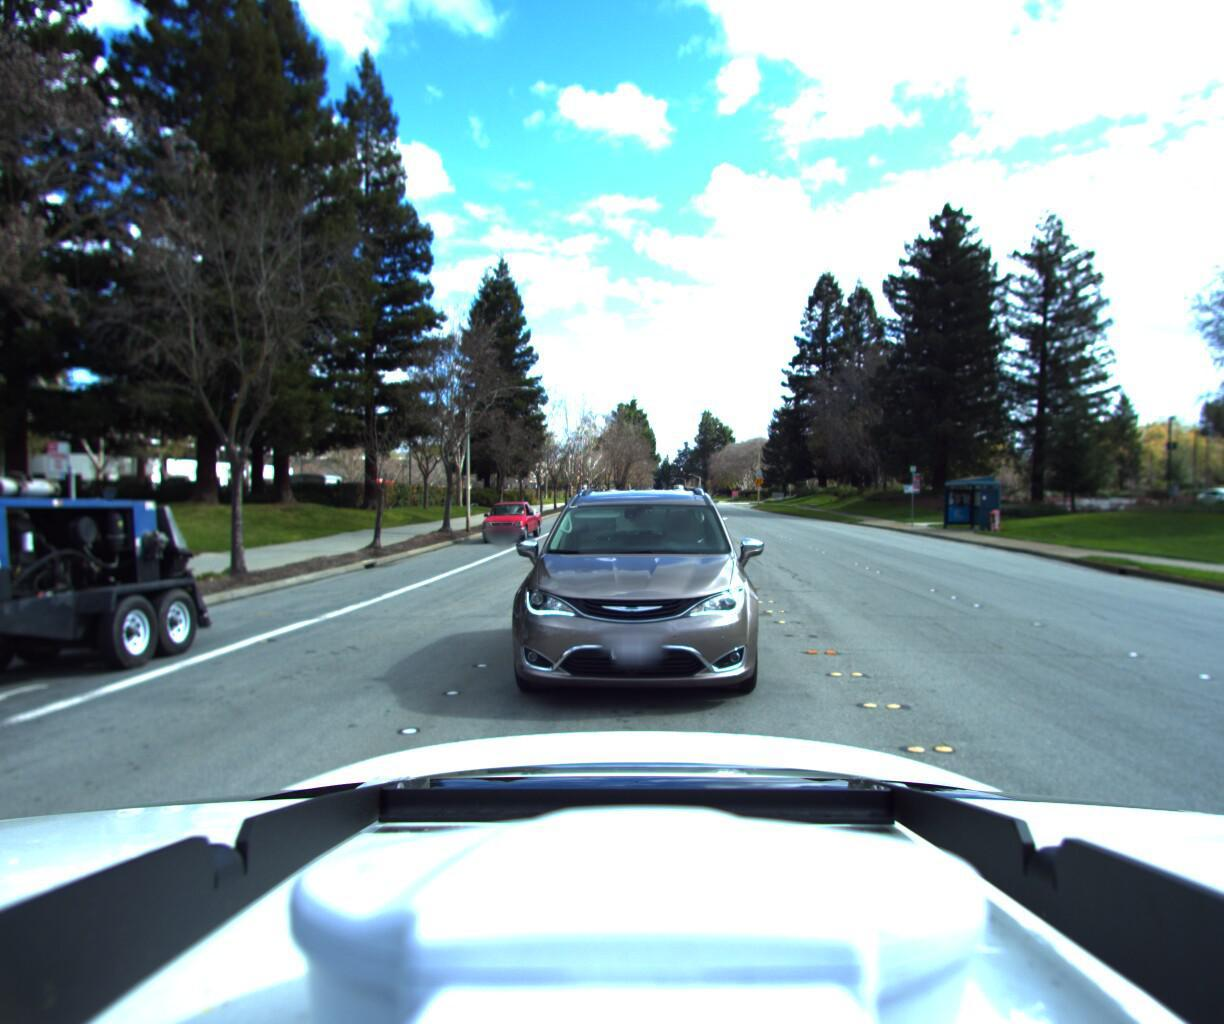car: (490, 468, 771, 725), (476, 508, 542, 550)
